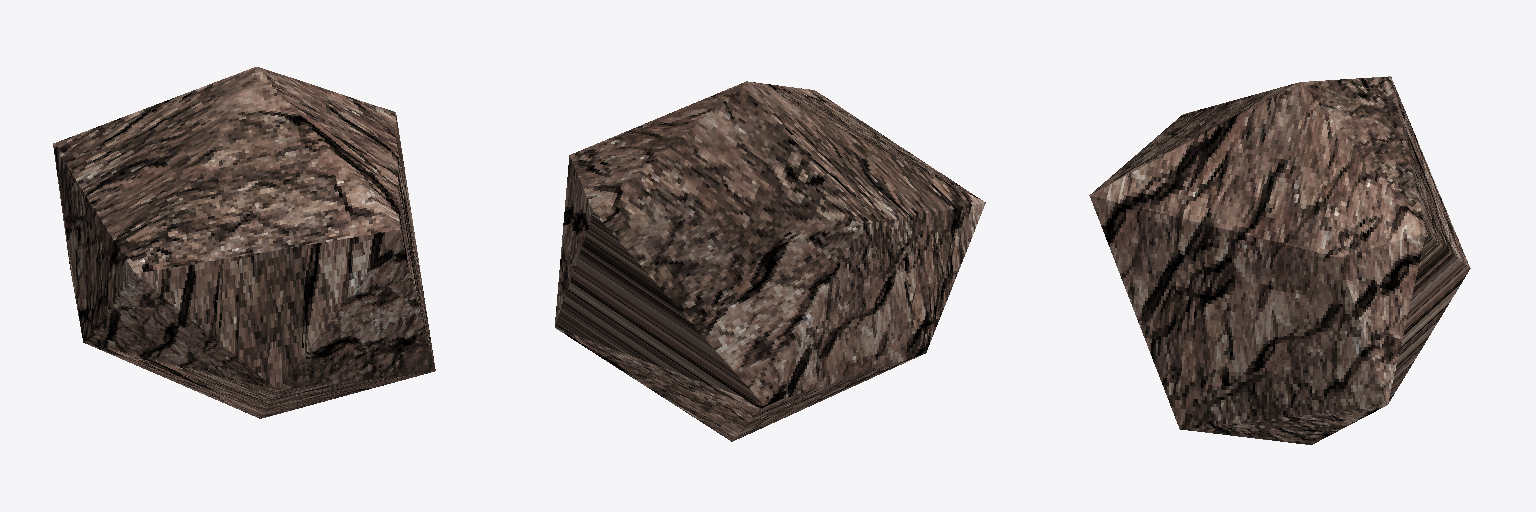
3 renders of one model, left to right at view 1: azimuth 30°, elevation 25°; view 2: azimuth 150°, elevation 25°; view 3: azimuth 270°, elevation 25°, orthographic.
Visible parts, largest first — view 1: GeoSphere003; view 2: GeoSphere003; view 3: GeoSphere003.
Part boxes in pixels (x1,y1,x2,y2): GeoSphere003: (53, 67, 435, 418); GeoSphere003: (555, 81, 985, 441); GeoSphere003: (1089, 76, 1470, 444).
Size of the model in its own units: 21.04 by 21.3 by 20.5.
Materials: 1 (1 with a texture image).